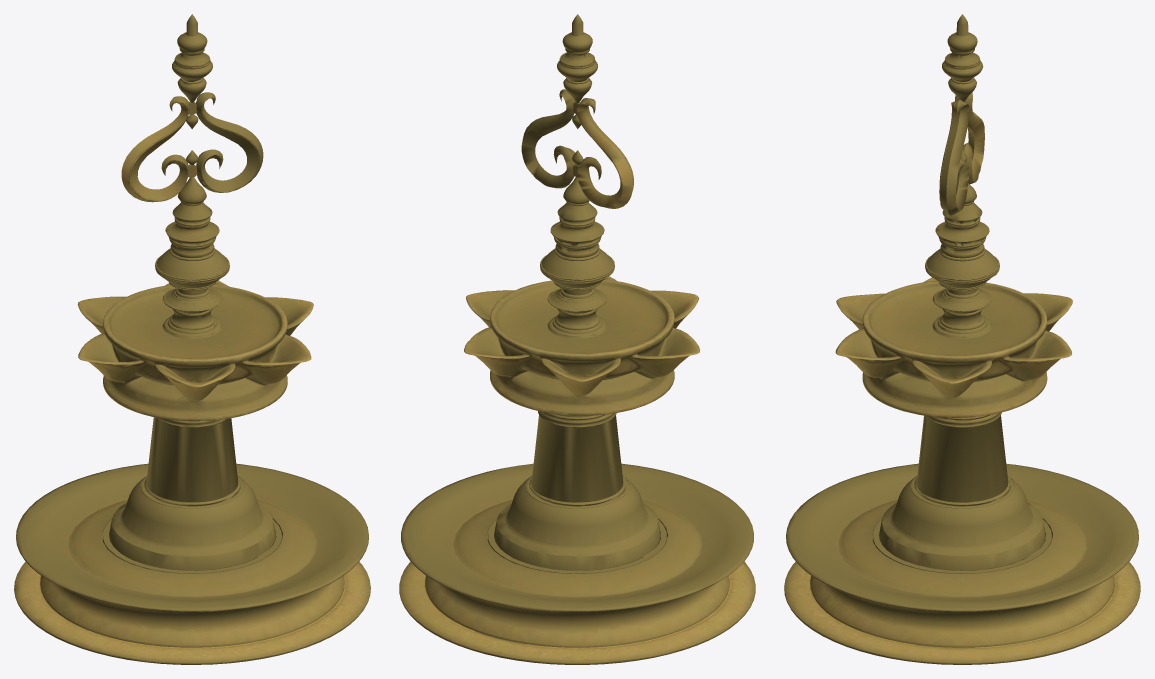
Rendered from Vallaku.glb.
3 renders of one model, left to right at view 1: azimuth 30°, elevation 25°; view 2: azimuth 150°, elevation 25°; view 3: azimuth 270°, elevation 25°, orthographic.
Parts seen in each view (by area): view 1: Vallaku.001; view 2: Vallaku.001; view 3: Vallaku.001.
Part boxes in pixels (bbox=[...]): Vallaku.001: bbox=[14, 14, 370, 664]; Vallaku.001: bbox=[399, 14, 755, 664]; Vallaku.001: bbox=[784, 14, 1140, 664].
Size of the model in its own units: 2.71 by 4.82 by 2.71.
